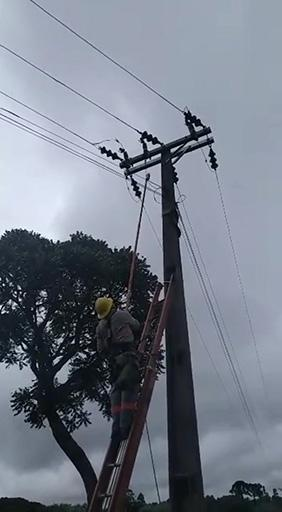Vara_Manobra: (125, 180, 148, 311)
